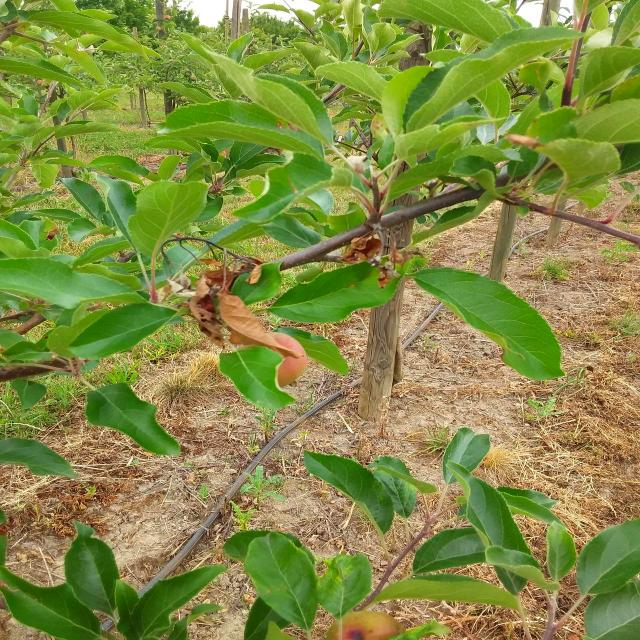-FireBlight-: (170, 236, 333, 380), (348, 184, 413, 284)
